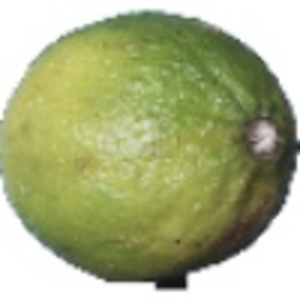limão: (1, 8, 300, 288)
